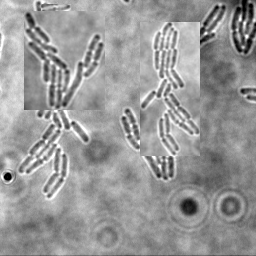Dividing: (41, 4, 71, 15)
Microcolony: (18, 40, 89, 199), (140, 22, 200, 156), (24, 11, 105, 110), (184, 5, 226, 52), (230, 1, 255, 56)
